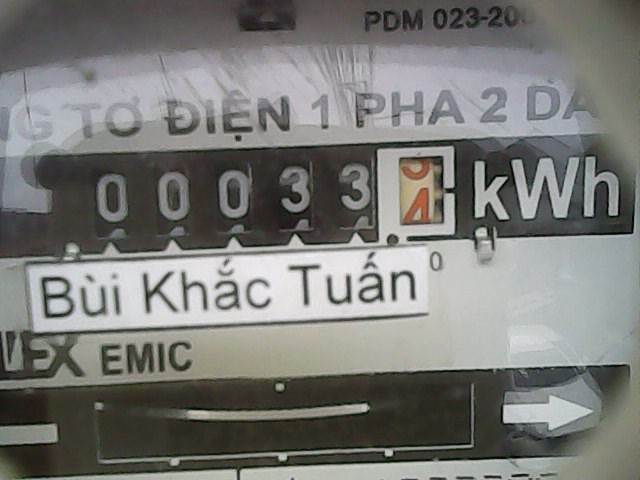phy_plate: (91, 141, 470, 249)
